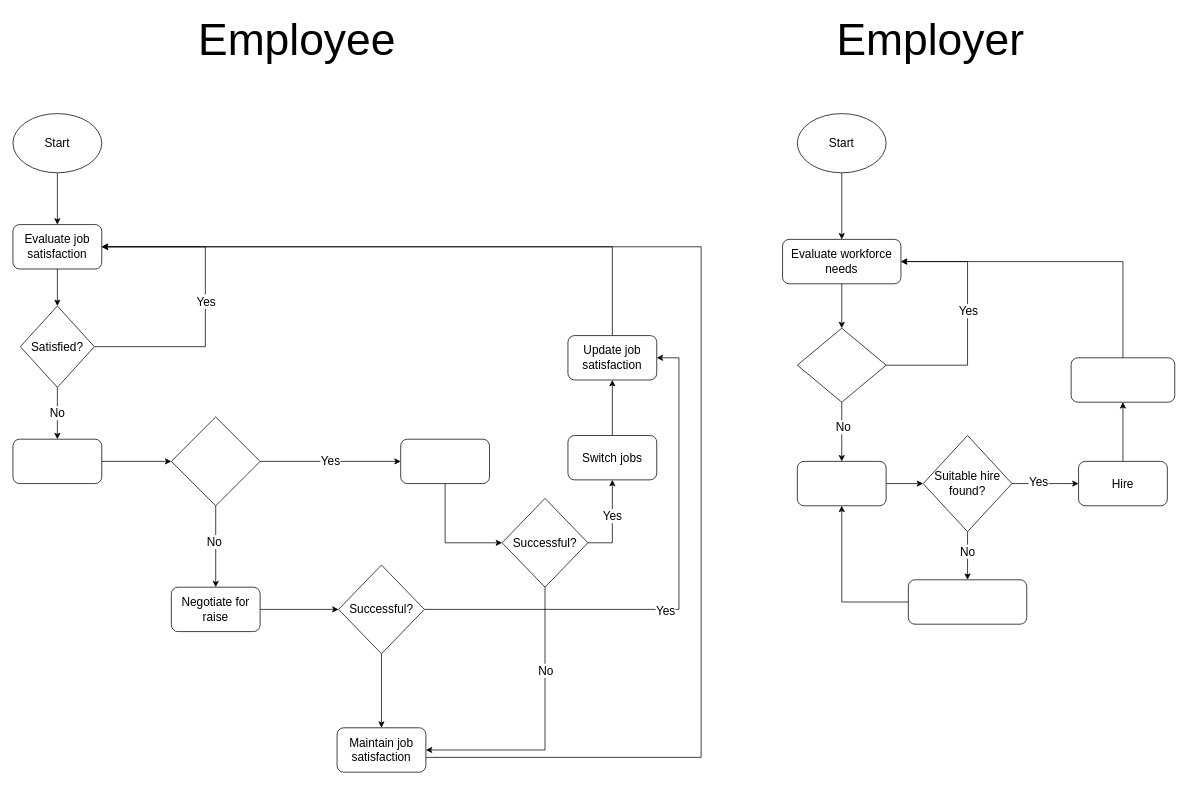
Some shapes in this 1188 by 785 pixel diagram are drawn without their labels. The shapes that lost their labels are listed below. From the top down, each one's centre as x and y in pixels, then its label:
At [841,364]: "Needs met?".
At [1122,379]: "Update workforce needs".
At [57,461]: "Evaluate available jobs".
At [215,461]: "Suitable job available?".
At [445,461]: "Apply".
At [841,483]: "Advertise opening".
At [967,601]: "Maintain workforce needs".
